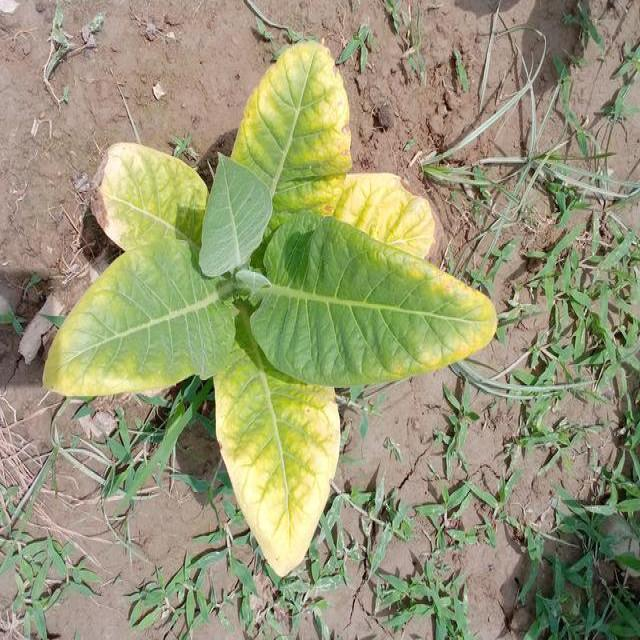crop: (72, 63, 484, 545)
